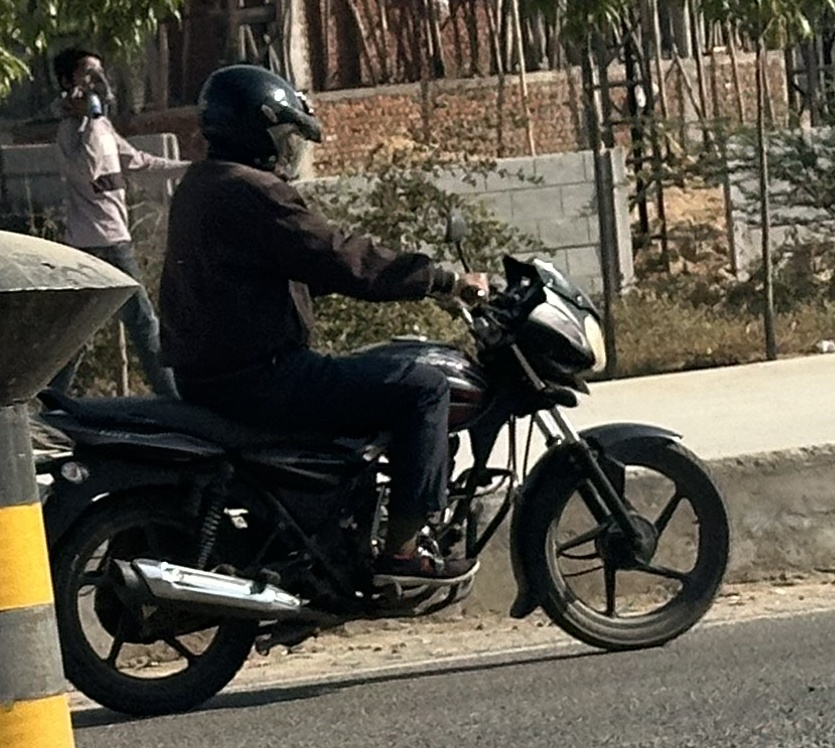BikeWithRider: (19, 51, 744, 727)
Helmet: (183, 56, 333, 184)
